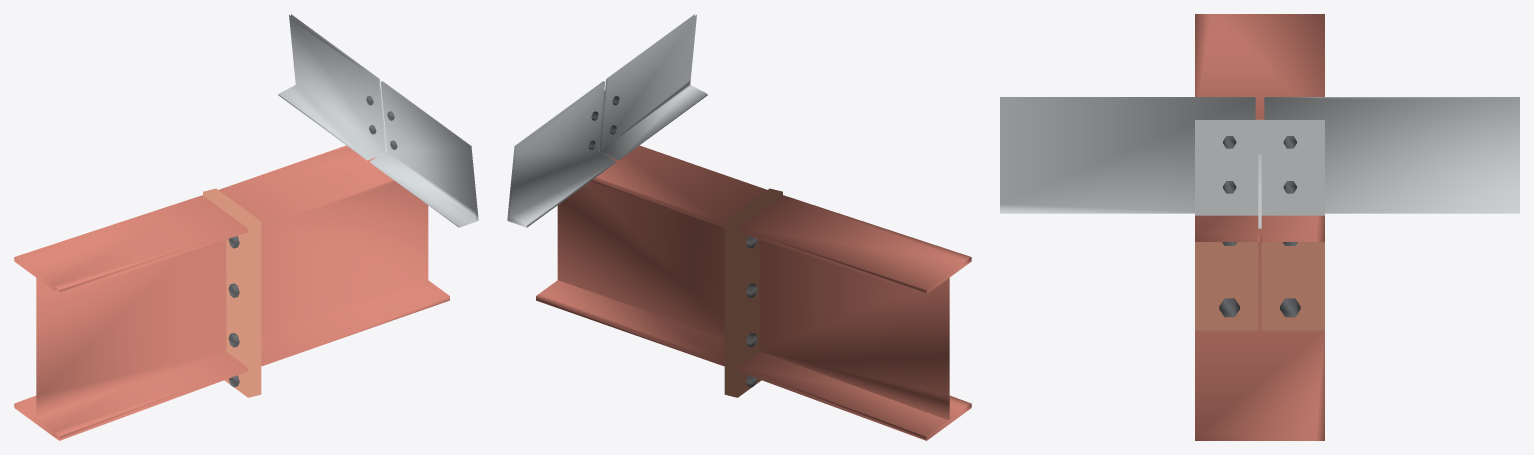
The model's file is splice607.glb.
3 views of the same model, side by side, from view 1: azimuth 30°, elevation 25°; view 2: azimuth 150°, elevation 25°; view 3: azimuth 270°, elevation 25° (orthographic). The views are drawn at different scales.
Visible parts, largest first — view 1: frame, purlin, plate, bolt; view 2: frame, purlin, plate, bolt; view 3: purlin, frame, cleat, plate, bolt.
Part boxes in pixels (x1=…): frame: x1=14, y1=145, x2=449, y2=440; purlin: x1=278, y1=14, x2=478, y2=227; plate: x1=203, y1=188, x2=261, y2=397; bolt: x1=228, y1=96, x2=397, y2=387; frame: x1=536, y1=145, x2=971, y2=440; purlin: x1=507, y1=14, x2=707, y2=227; plate: x1=724, y1=188, x2=782, y2=397; bolt: x1=588, y1=96, x2=757, y2=387; purlin: x1=1000, y1=97, x2=1519, y2=213; frame: x1=1195, y1=14, x2=1324, y2=440; cleat: x1=1195, y1=120, x2=1324, y2=228; plate: x1=1195, y1=119, x2=1324, y2=330; bolt: x1=1219, y1=136, x2=1300, y2=317.
Size of the model in its own units: 1.5 by 0.9659 by 1.2.
